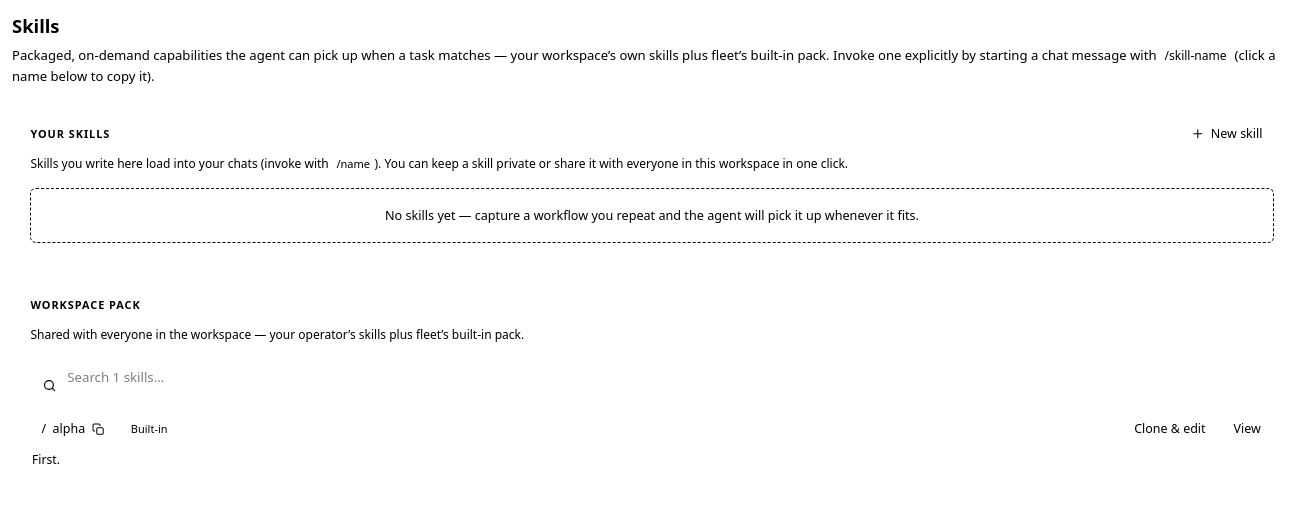
it: SkillsPage failure states › reports a failed SKILL.md read in the row instead of spinning
The image size is (1292, 527).
Click the button "View" at [1247, 430], box [1222,416,1272,444]
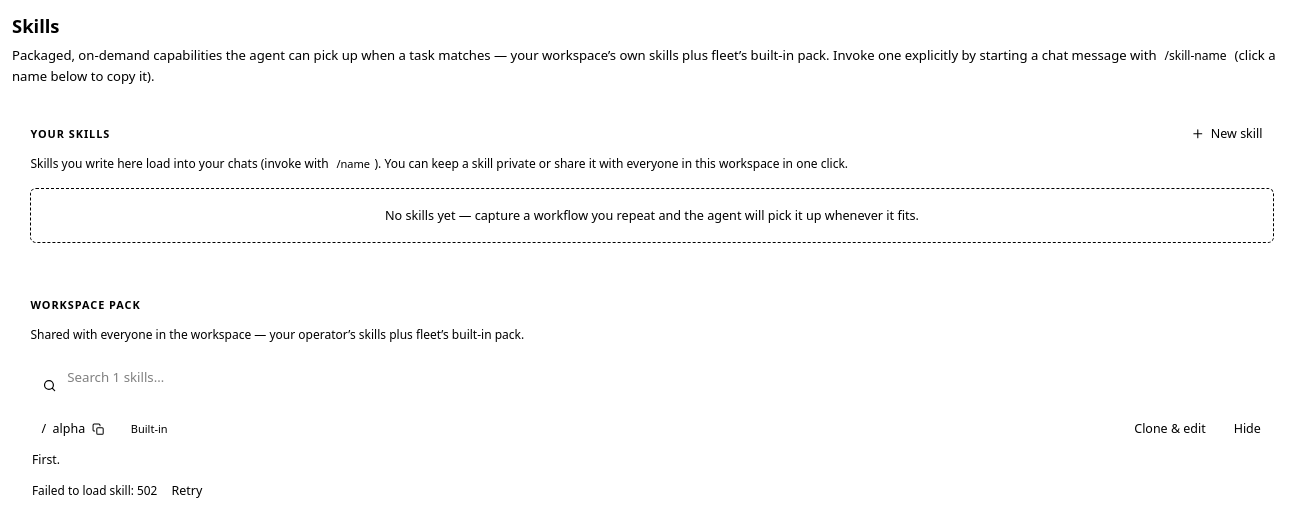
Check: the message shows "Failed to load skill: 502", box [32,482,157,498]
Click the button "Retry" at [187, 491], box [160,477,214,505]
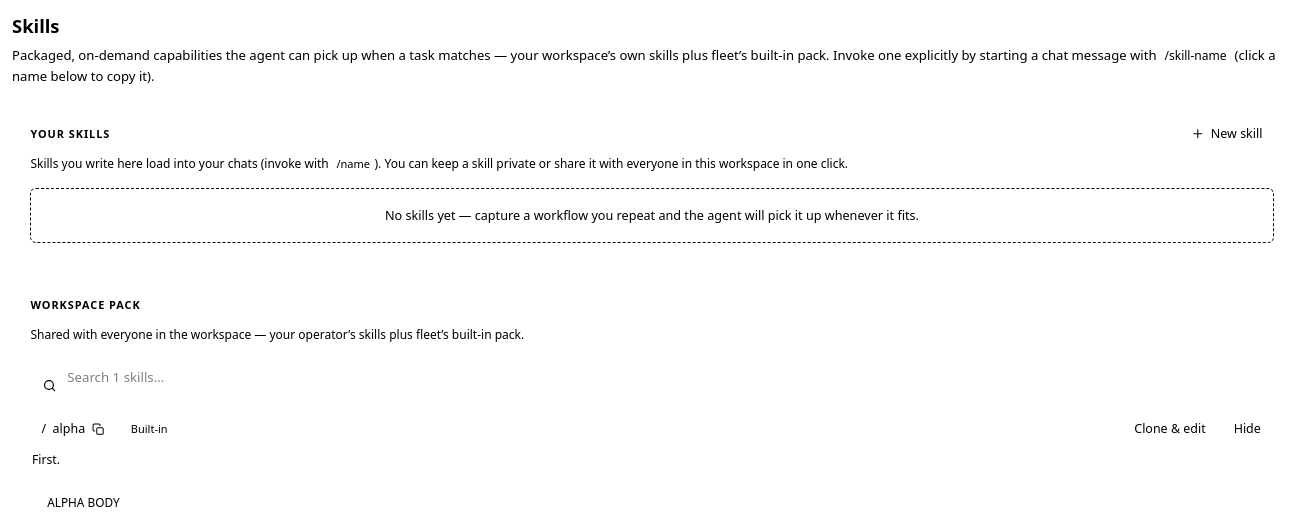
Check: the text "ALPHA BODY" is shown, box [47,494,120,510]
